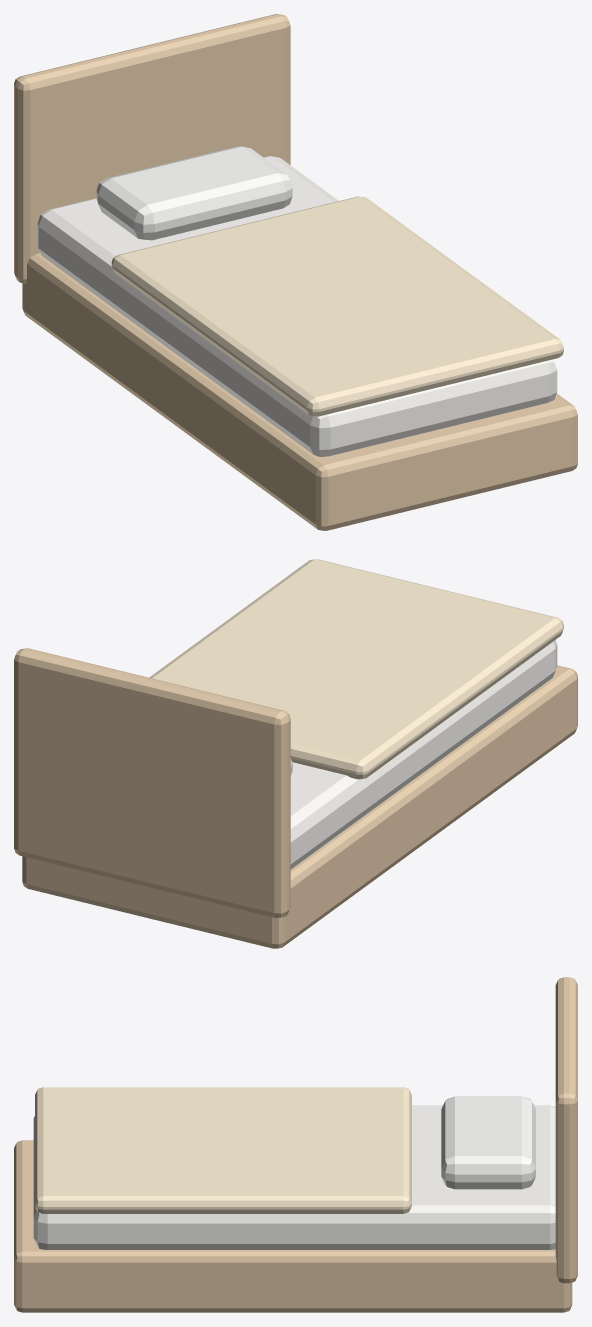
Rendered from cama_simples.glb.
3 views of the same model, one above another, from view 1: azimuth 30°, elevation 25°; view 2: azimuth 150°, elevation 25°; view 3: azimuth 270°, elevation 25° (orthographic). The views are drawn at different scales.
Parts seen in each view (by area): view 1: cama_simples; view 2: cama_simples; view 3: cama_simples.
Part boxes in pixels (x1=…): cama_simples: x1=14, y1=14, x2=577, y2=530; cama_simples: x1=14, y1=559, x2=577, y2=948; cama_simples: x1=14, y1=977, x2=577, y2=1312.
Size of the model in its own units: 1.04 by 0.875 by 2.02.
